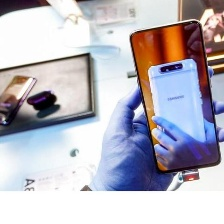phone: (125, 13, 224, 177), (143, 56, 208, 171), (0, 72, 37, 126)
